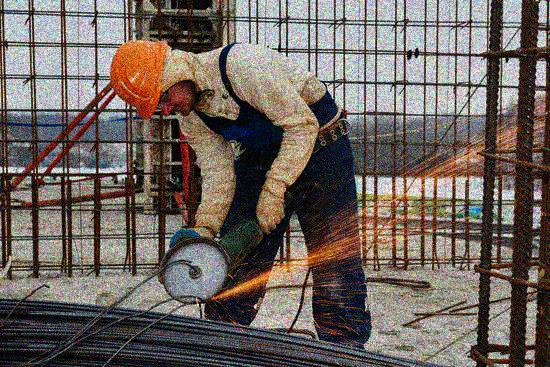helmet: (106, 37, 199, 121)
